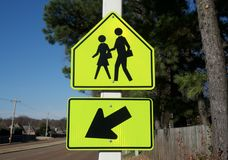slow: (67, 9, 158, 92)
